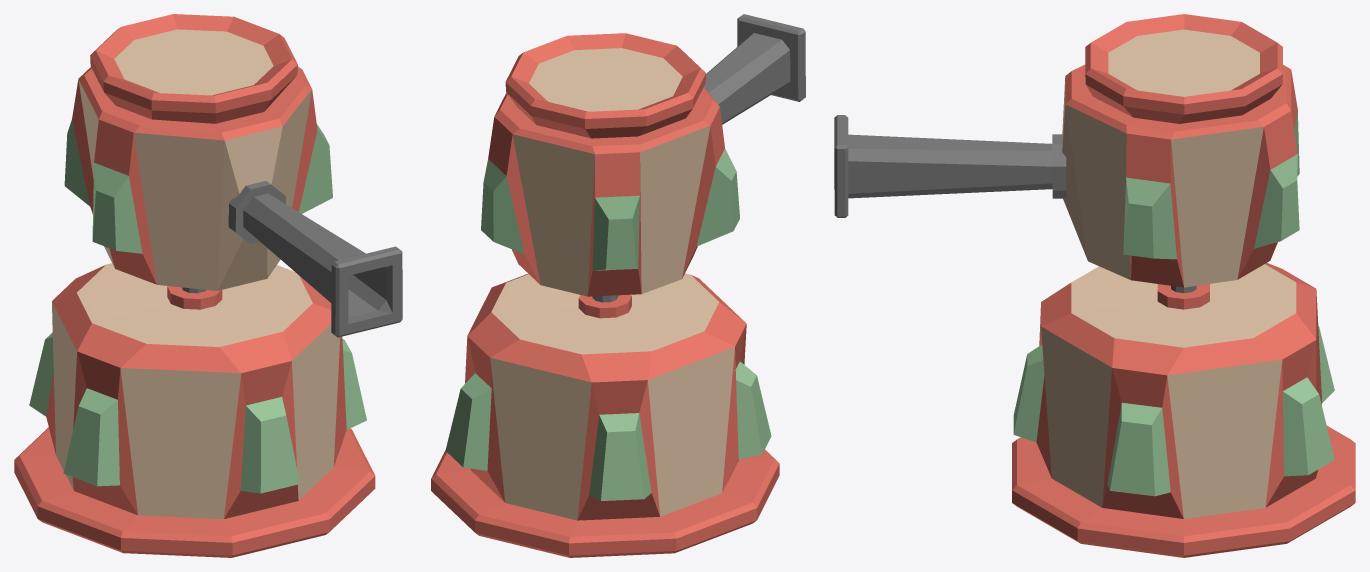
The model's file is EnemyMissileTurret.fbx.
3 views of the same model, side by side, from view 1: azimuth 30°, elevation 25°; view 2: azimuth 150°, elevation 25°; view 3: azimuth 270°, elevation 25° (orthographic). The views are drawn at different scales.
Parts seen in each view (by area): view 1: Base, Head, Barrel; view 2: Base, Head, Barrel; view 3: Base, Head, Barrel.
Part boxes in pixels (x1,y1,x2,y2): Base: (14, 263, 375, 557); Head: (64, 14, 332, 290); Barrel: (228, 181, 402, 337); Base: (431, 273, 779, 557); Head: (481, 33, 739, 296); Barrel: (704, 14, 805, 124); Base: (1012, 263, 1355, 557); Head: (1062, 14, 1299, 287); Barrel: (834, 115, 1066, 217).
Bounding box in the file's own units: 396 × 518 × 571.
